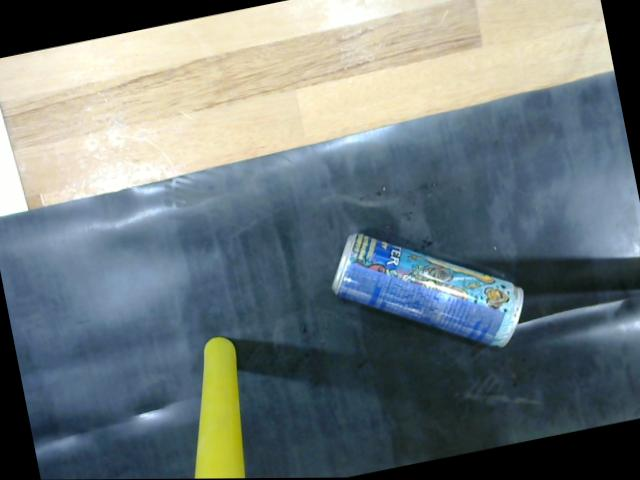can: (324, 228, 539, 357)
